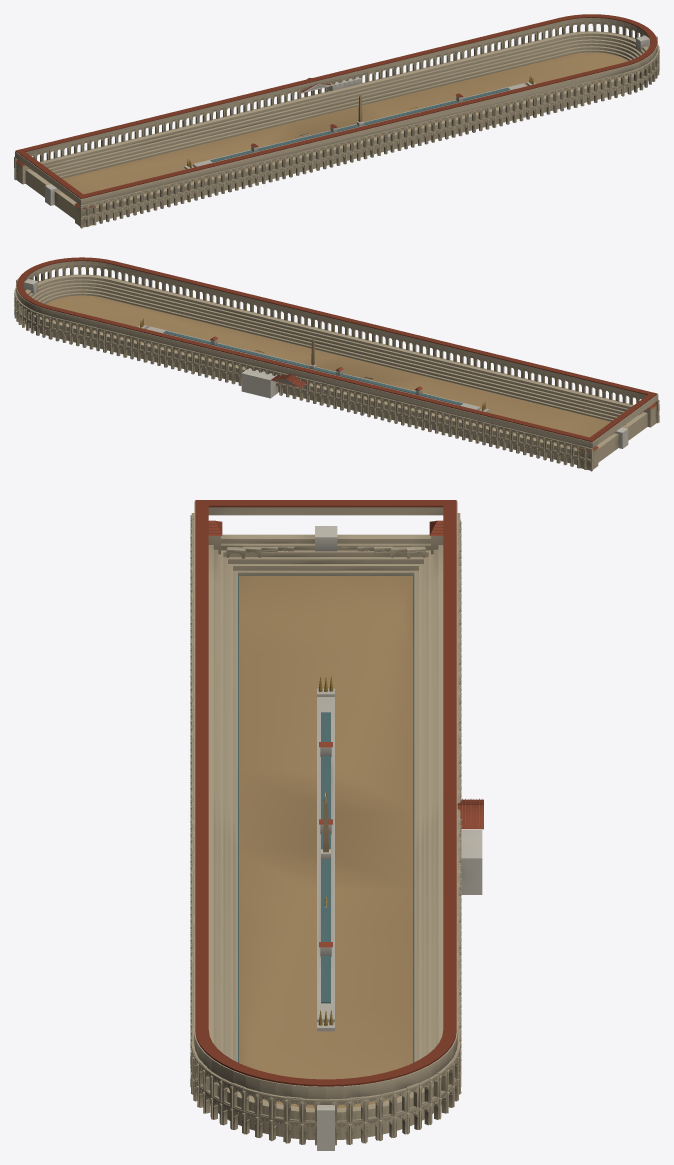
File: circus-maximus.glb
3 views of the same model, one above another, from view 1: azimuth 30°, elevation 25°; view 2: azimuth 150°, elevation 25°; view 3: azimuth 270°, elevation 25° (orthographic). The views are drawn at different scales.
Parts seen in each view (by area): view 1: p1_spina, p2_gates, p0_arena; view 2: p1_spina, p2_gates, p0_arena; view 3: p0_arena, p1_spina, p2_gates.
Part boxes in pixels (<box>): p1_spina: <box>14,22,659,228</box>; p2_gates: <box>15,14,657,227</box>; p0_arena: <box>48,52,628,205</box>; p1_spina: <box>14,265,659,471</box>; p2_gates: <box>16,257,658,470</box>; p0_arena: <box>45,295,624,448</box>; p0_arena: <box>238,575,414,1108</box>; p1_spina: <box>190,513,461,1145</box>; p2_gates: <box>194,500,483,1150</box>.
Bounding box in the file's own units: 629 × 33.07 × 132.
